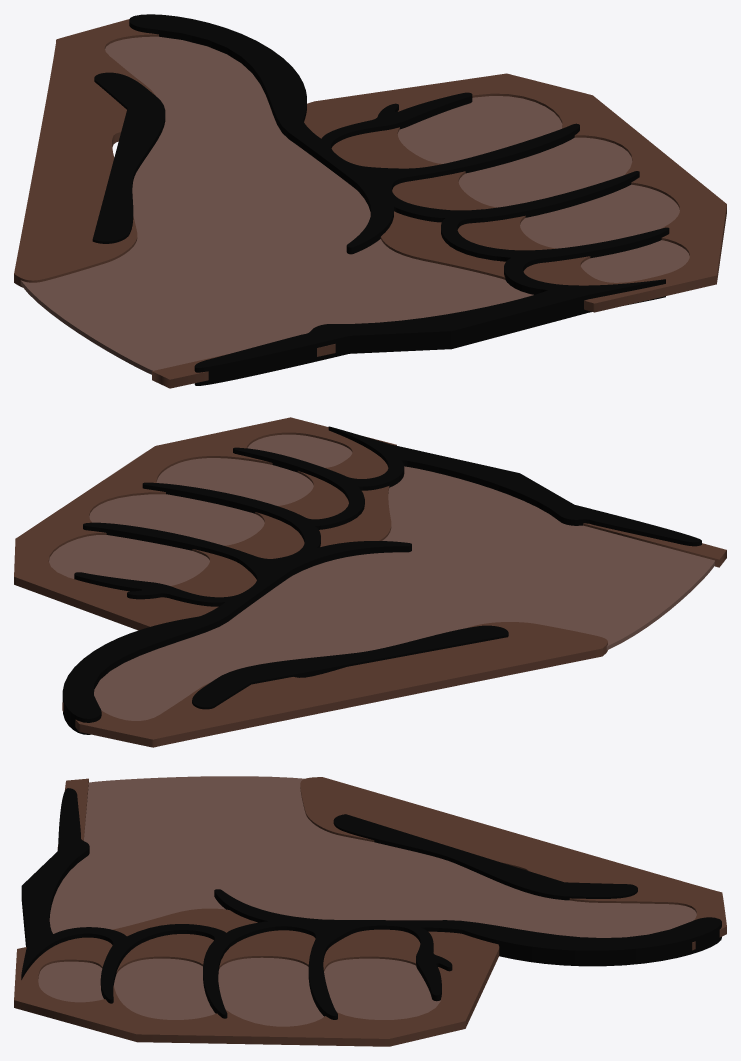
The model's file is emoji_u1f44d_1f3ff.glb.
3 views of the same model, one above another, from view 1: azimuth 30°, elevation 25°; view 2: azimuth 150°, elevation 25°; view 3: azimuth 270°, elevation 25° (orthographic). The views are drawn at different scales.
Visible parts, largest first — view 1: emoji_u1f44d_1f3ff; view 2: emoji_u1f44d_1f3ff; view 3: emoji_u1f44d_1f3ff.
Part boxes in pixels (x1,y1,x2,y2): emoji_u1f44d_1f3ff: (14, 14, 726, 388); emoji_u1f44d_1f3ff: (14, 417, 726, 747); emoji_u1f44d_1f3ff: (14, 776, 726, 1046).
Bounding box in the file's own units: 0.0292 × 0.0008 × 0.0332.
